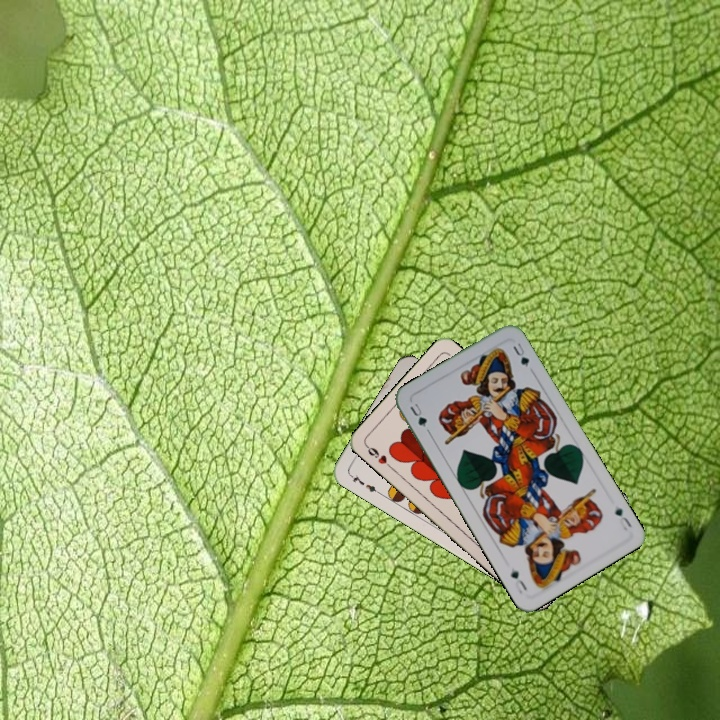E7: (346, 470, 382, 497)
GU: (406, 399, 430, 430), (611, 503, 635, 533)
H9: (362, 441, 396, 472)
